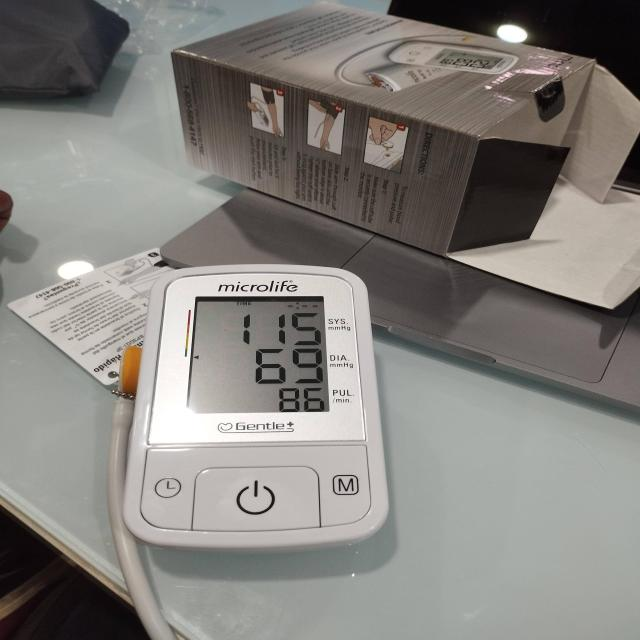bp: (120, 266, 391, 555)
